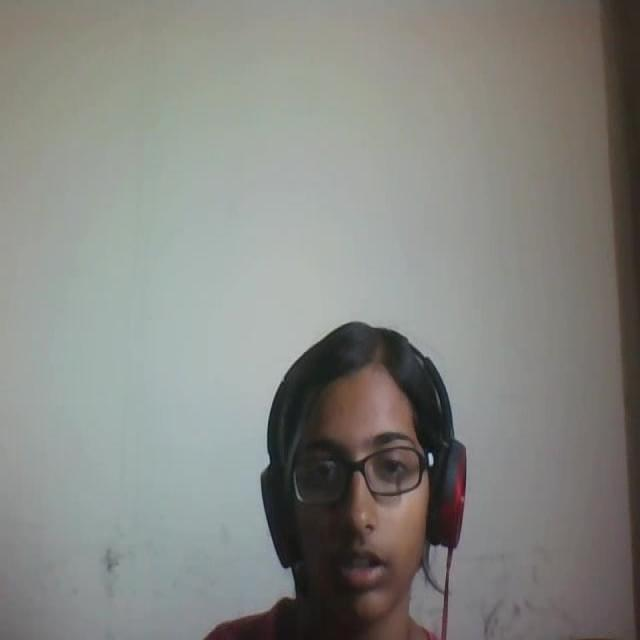Bored: (240, 294, 490, 640)
